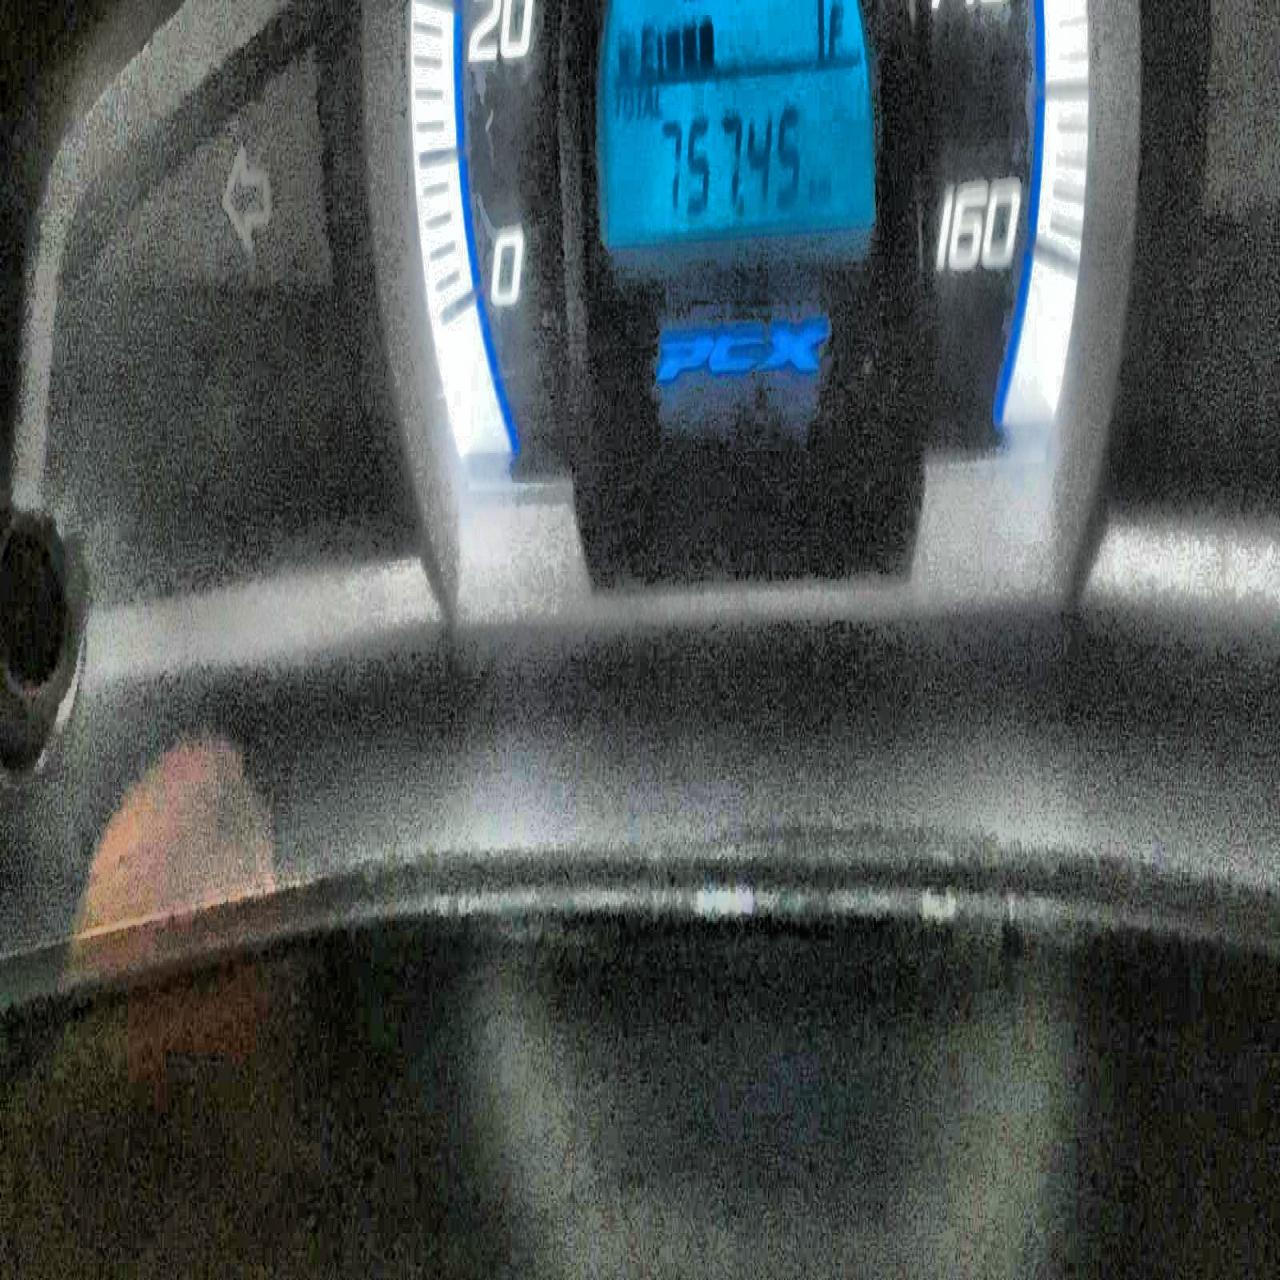4: (746, 113, 773, 199)
5: (775, 105, 800, 209), (687, 113, 710, 214)
7: (660, 116, 682, 206), (720, 111, 739, 203)
X: (827, 2, 846, 56), (639, 23, 656, 75), (817, 175, 832, 205), (622, 85, 633, 120), (807, 171, 817, 205), (644, 86, 653, 120), (654, 85, 662, 118), (634, 86, 642, 118), (614, 86, 622, 116)
odometer: (591, 0, 877, 248)
